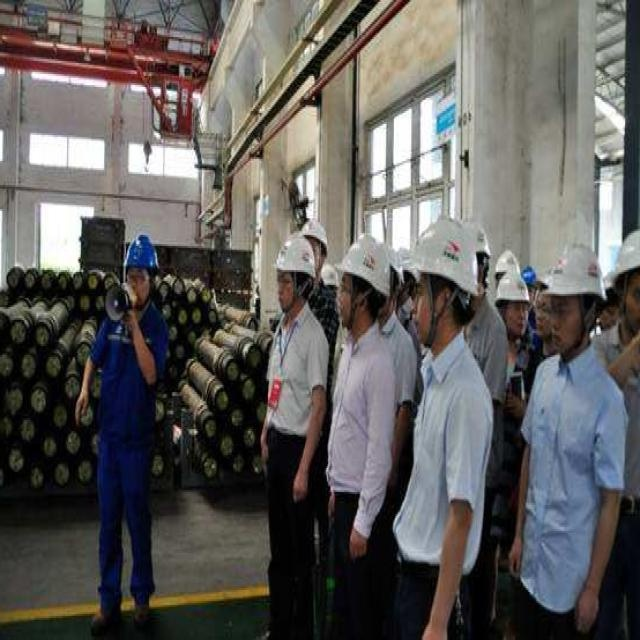Sin_Chaleco: (517, 358, 628, 612)
